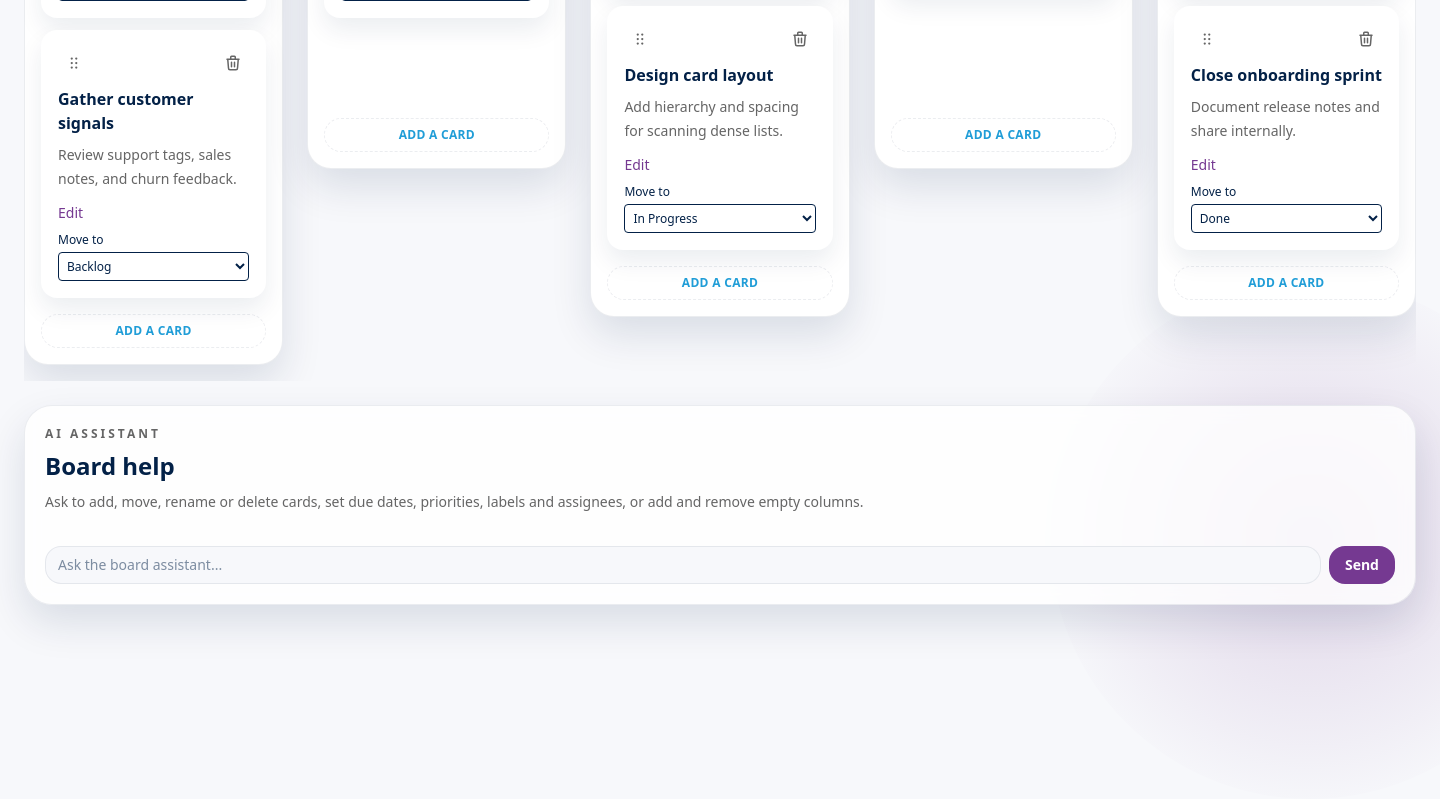
explains on the sign-in screen that an expired session dropped the assistant's changes
(page scrolled)
Type "Move first card" into the field named "Message to board assistant" at (683, 565), box [45,546,1321,584]
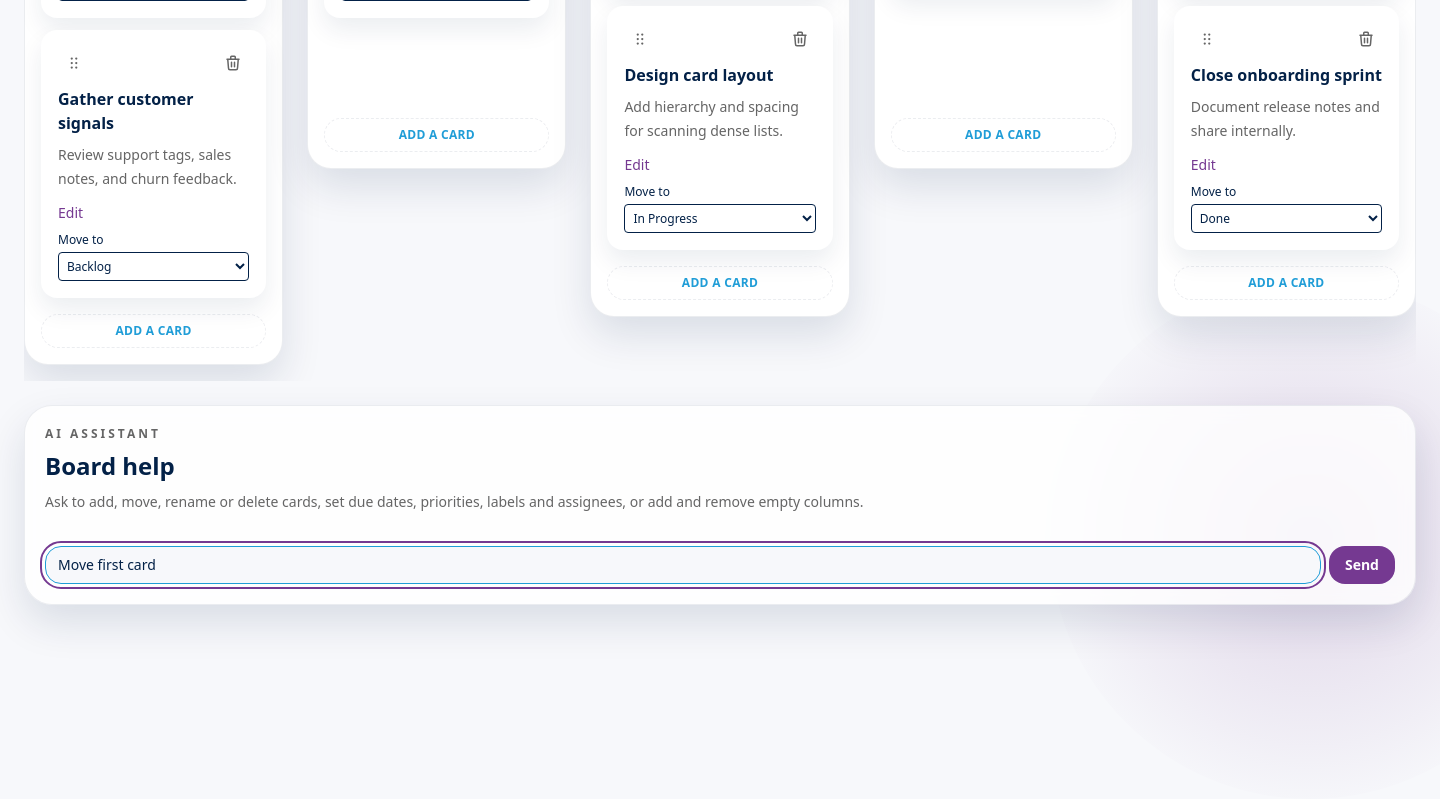
Click the button "Send" at (1362, 565), box [1329,546,1395,584]
(page scrolled)
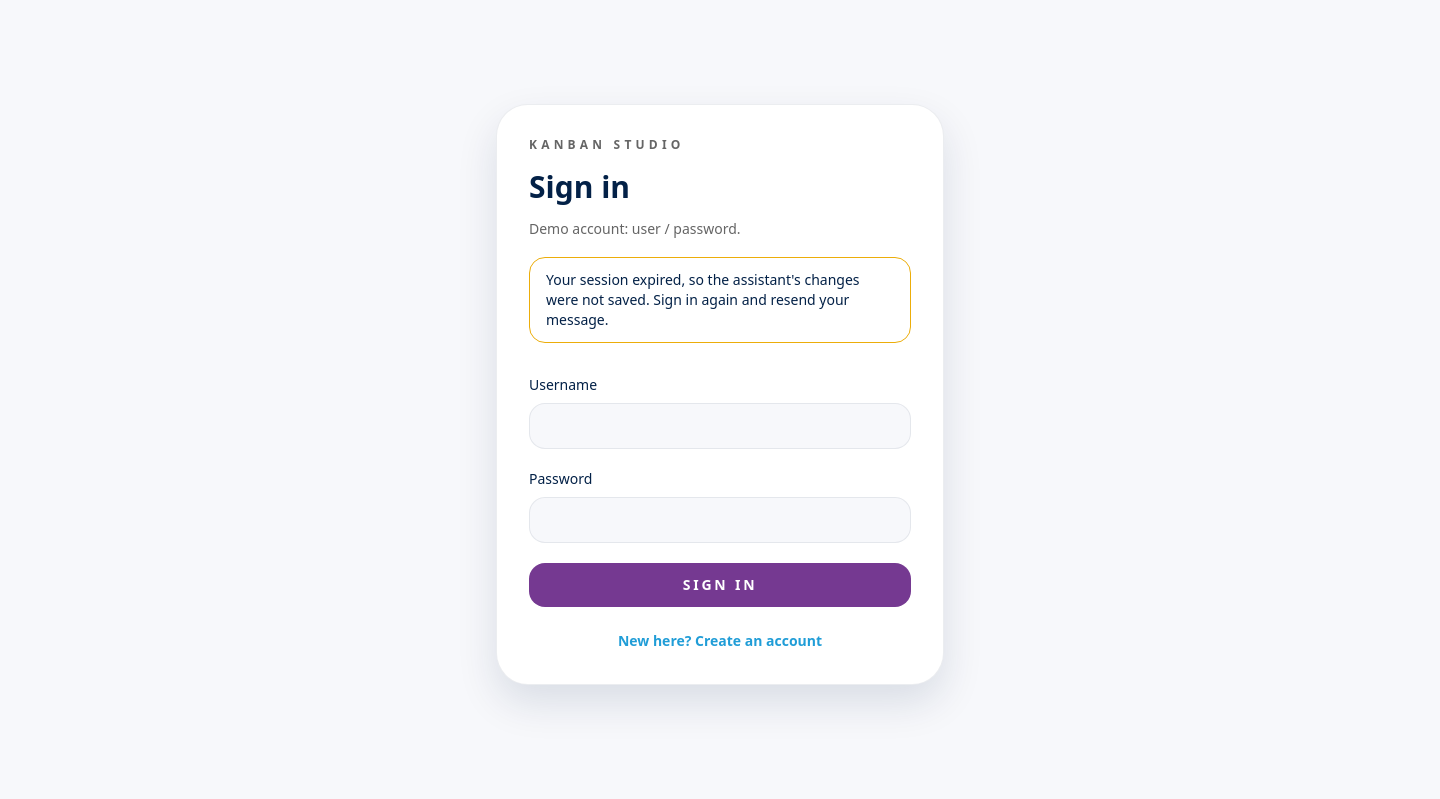
Check: the heading "Sign in" is shown, box [529,166,630,206]
Check: the message shows "the assistant's changes were not saved", box [546,270,860,328]
